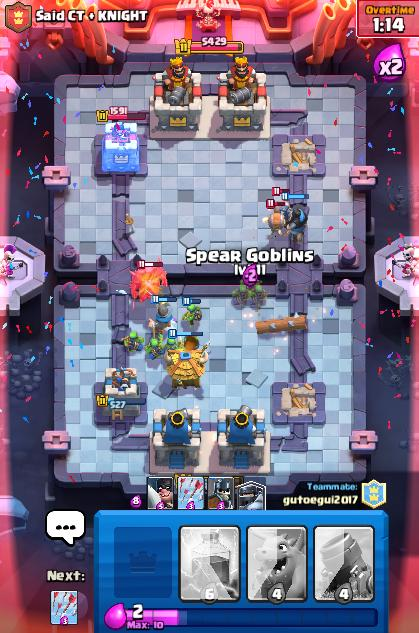EBigPekka: (131, 260, 167, 302)
EKingTower: (218, 56, 269, 130), (153, 57, 201, 130)
EWallBreak: (266, 199, 285, 234), (273, 187, 290, 213)
EnemyPrincessTower: (101, 123, 139, 173)
ODarkPrince: (289, 205, 307, 243)
OGoblinHut: (165, 348, 207, 387)
OKnight: (156, 302, 172, 328)
OSpearGoblin: (145, 333, 165, 359), (182, 304, 201, 327), (249, 284, 267, 308), (232, 284, 249, 308), (123, 331, 143, 351), (165, 336, 183, 349)
OwnKingTower: (218, 405, 270, 472), (150, 409, 200, 472)
OwnPrincessTower: (95, 369, 145, 420)
TowerDown: (274, 382, 325, 424), (273, 134, 325, 175)
